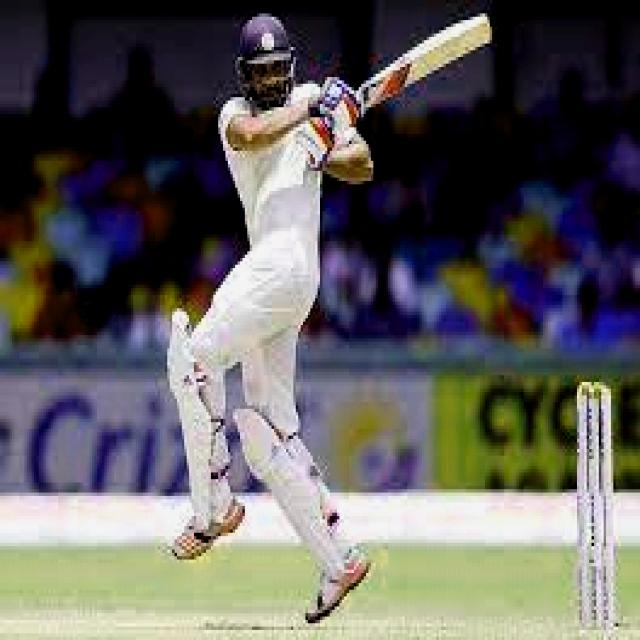toe: (476, 14, 492, 51)
